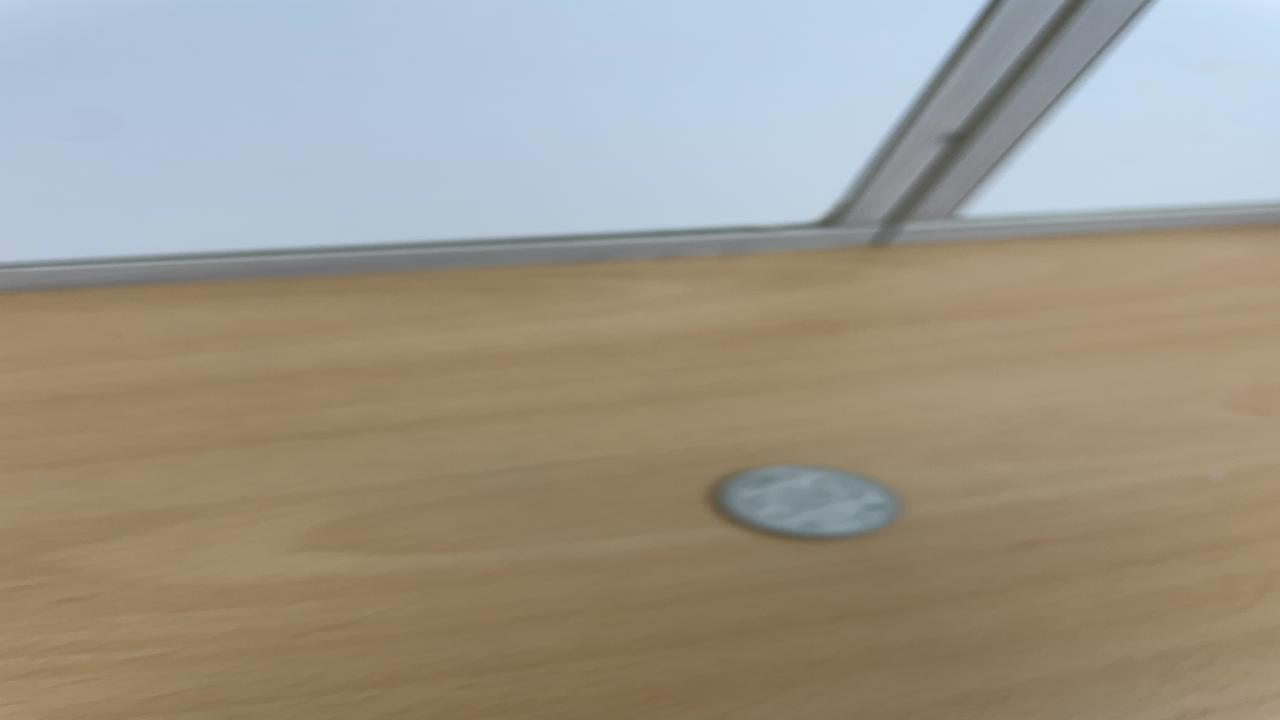coin: (710, 463, 907, 540)
